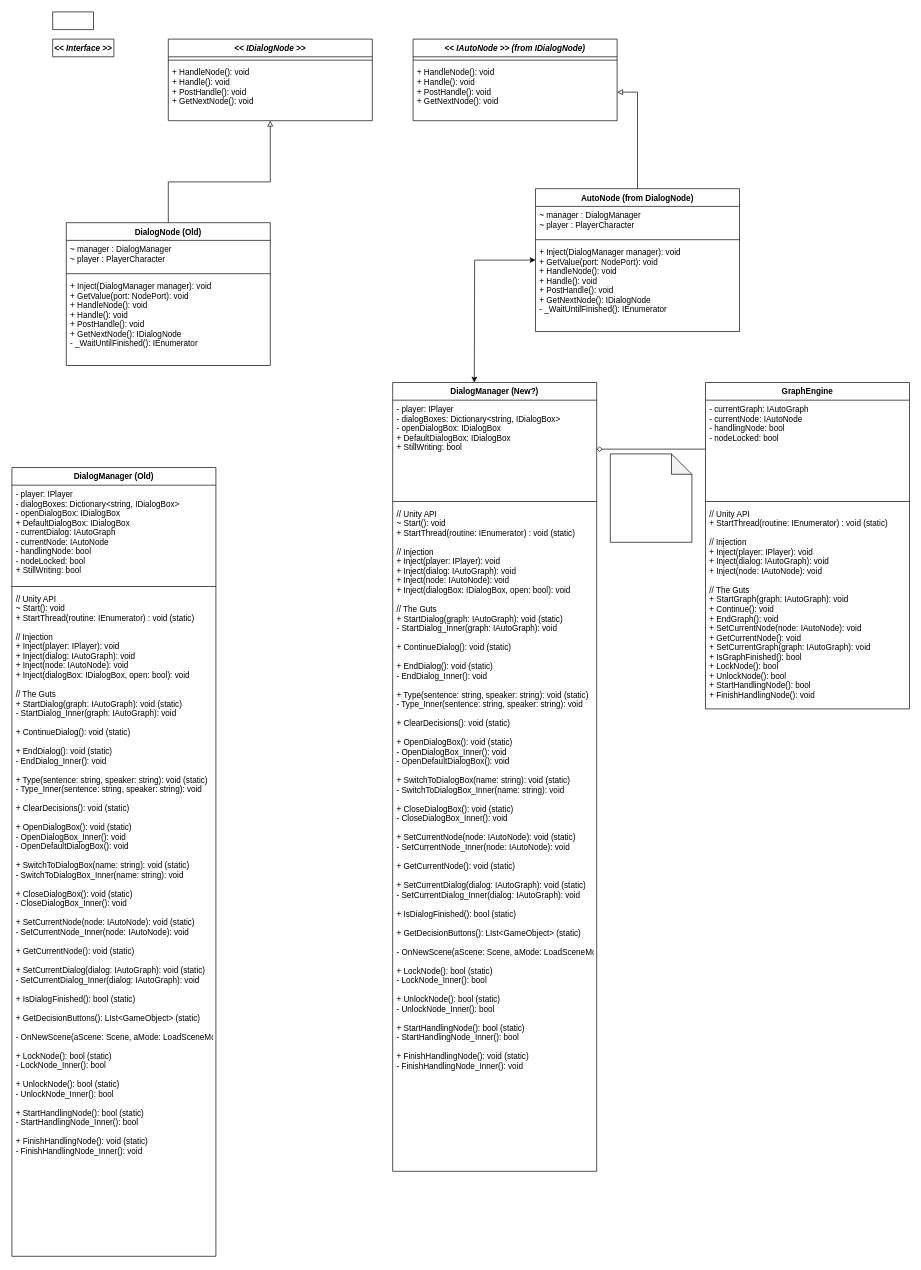
Some shapes in this 921 by 1270 pixel diagram are drawn without their labels. Each missing label, with the centre of its shape:
Class: (x=73, y=20)
DialogManager completely delegates off graph traversal to the graph engine.: (x=651, y=497)
